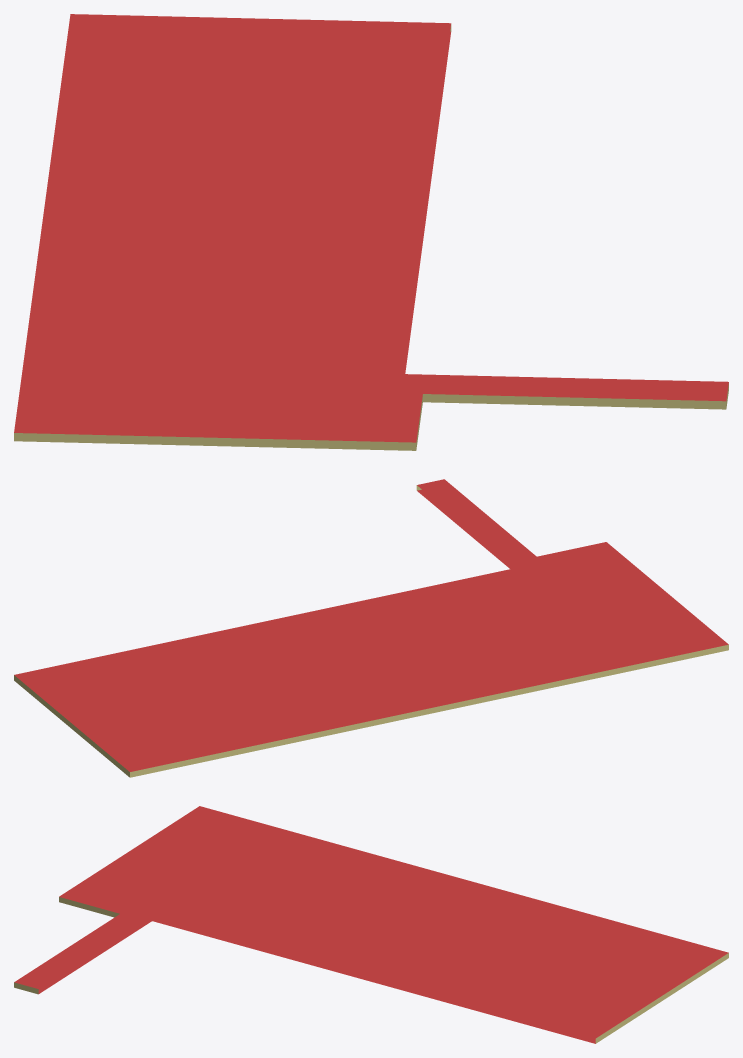
The picture shows the model from 3 angles, top to bottom: view 1: azimuth 30°, elevation 25°; view 2: azimuth 150°, elevation 25°; view 3: azimuth 270°, elevation 25°; orthographic projection. The views are drawn at different scales.
Bounding box in the file's own units: 9.38 × 12.18 × 0.1.
